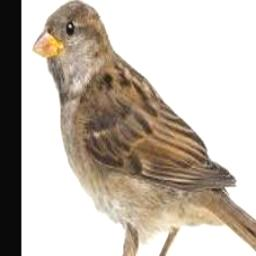Sparrow: (33, 0, 256, 256)
